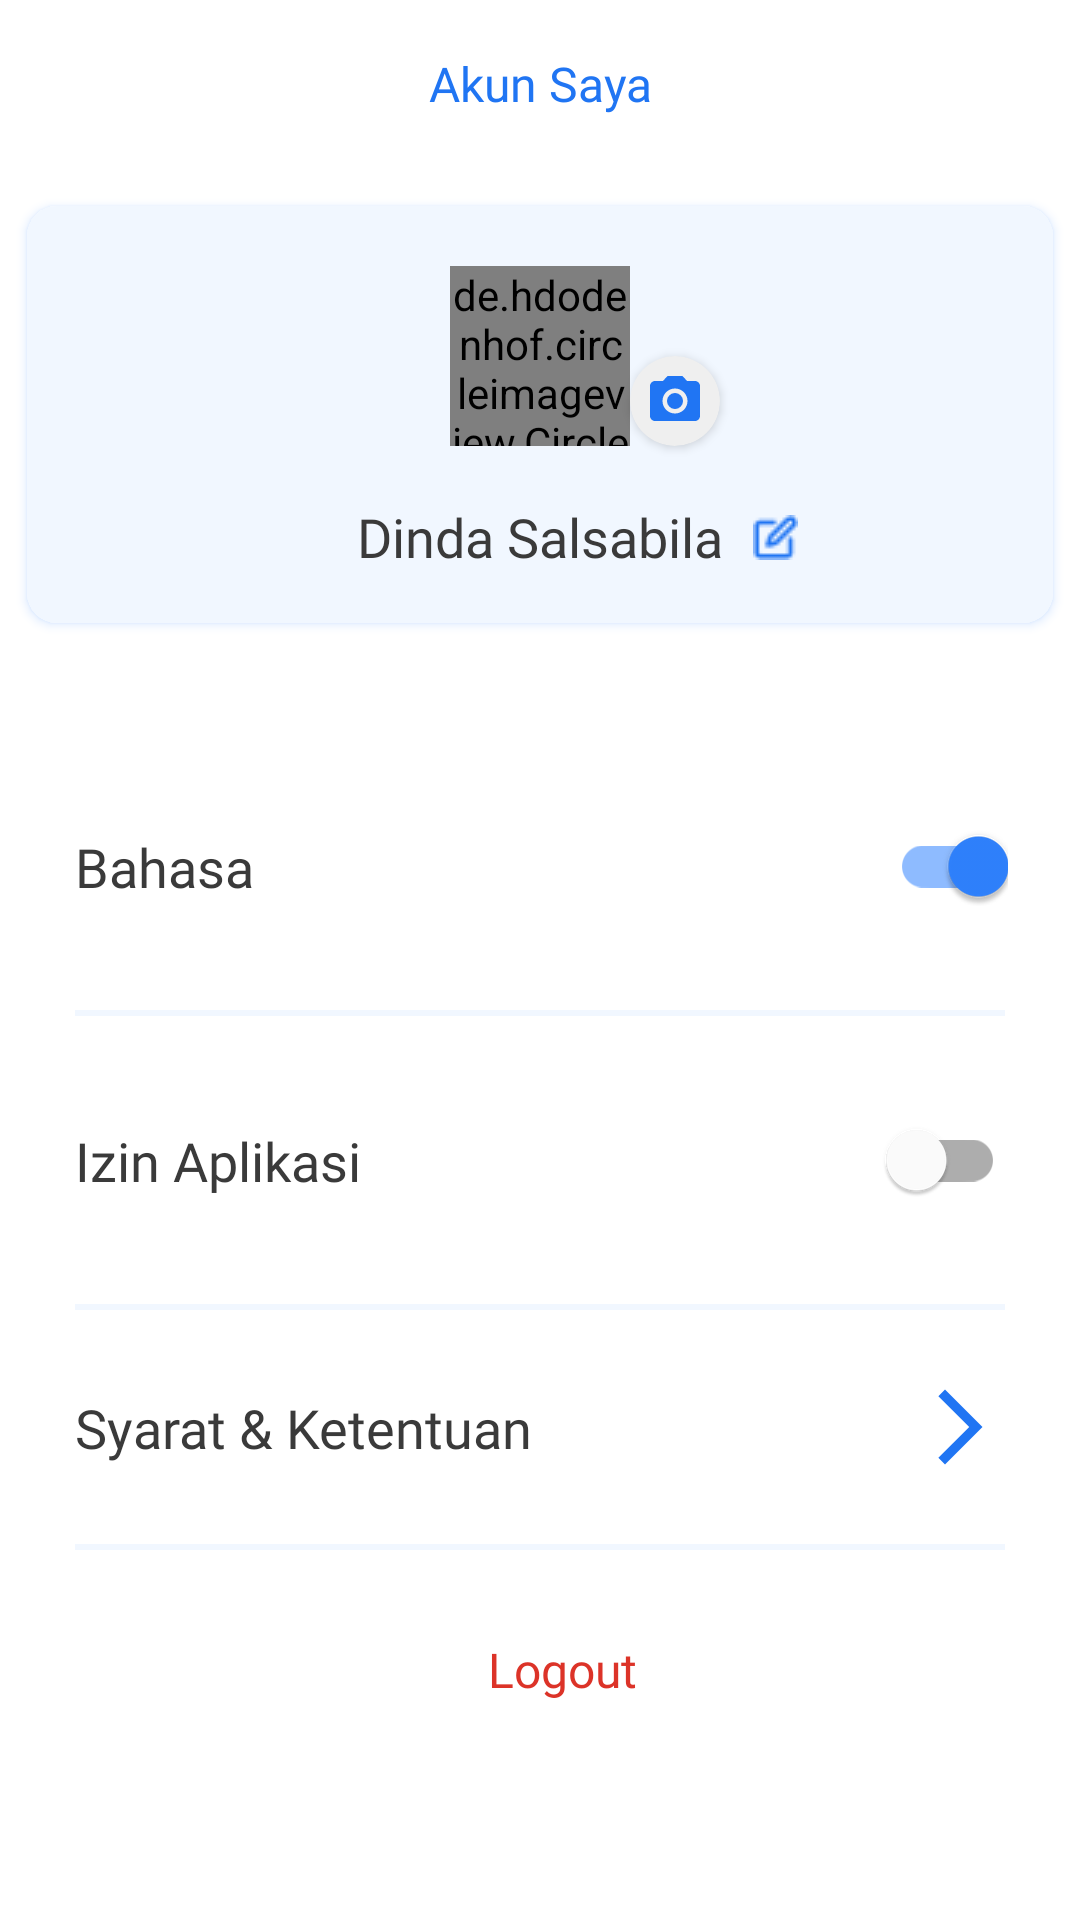

Icons on this 1080 × 1920 Android screen, each with its box as (x1, y1, x2, y2):
arrow forward: (938, 1389, 983, 1465)
camera: (650, 376, 700, 421)
edit: (753, 515, 798, 560)
